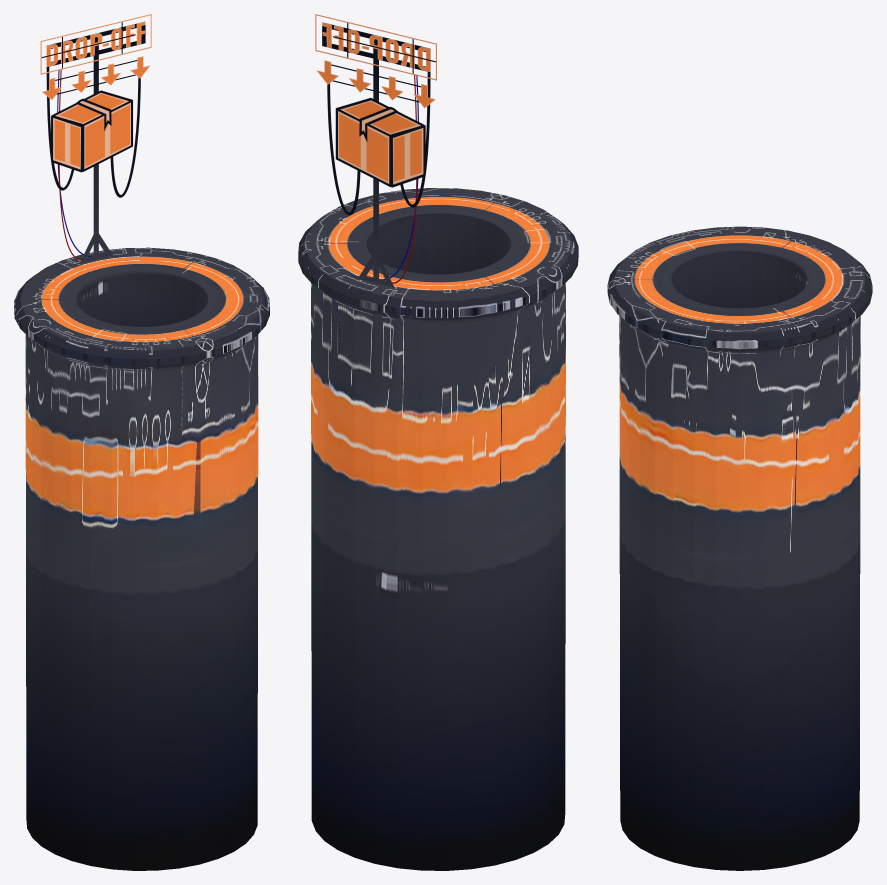
File: end.glb
3 views of the same model, side by side, from view 1: azimuth 30°, elevation 25°; view 2: azimuth 150°, elevation 25°; view 3: azimuth 270°, elevation 25° (orthographic). The views are drawn at different scales.
Visible parts, largest first — view 1: end, Plane; view 2: end, Plane; view 3: end.
Boxes of the visible parts, bbox=[...] form: end: bbox=[14, 247, 269, 870]; Plane: bbox=[40, 14, 151, 263]; end: bbox=[298, 188, 578, 870]; Plane: bbox=[315, 14, 436, 288]; end: bbox=[607, 226, 872, 870].
Bounding box in the file's own units: 4 × 13 × 4.
Materials: 2 (2 with a texture image).
